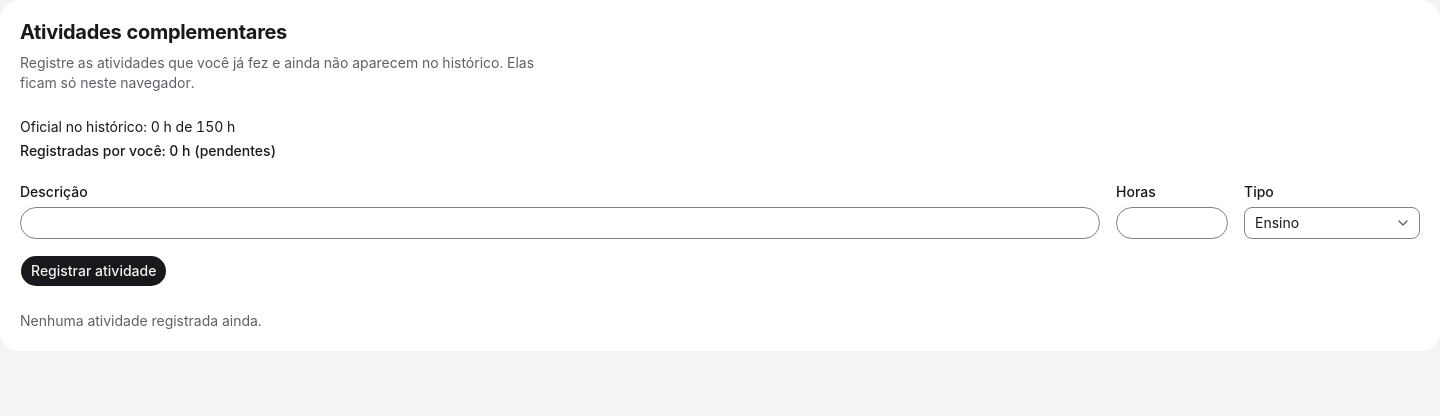
Test: AaccCard › removes an activity from the list and from the pending total
The width and height of the screenshot is (1440, 416).
Click the field labelled "Descrição" at (560, 223), box [20,207,1100,239]
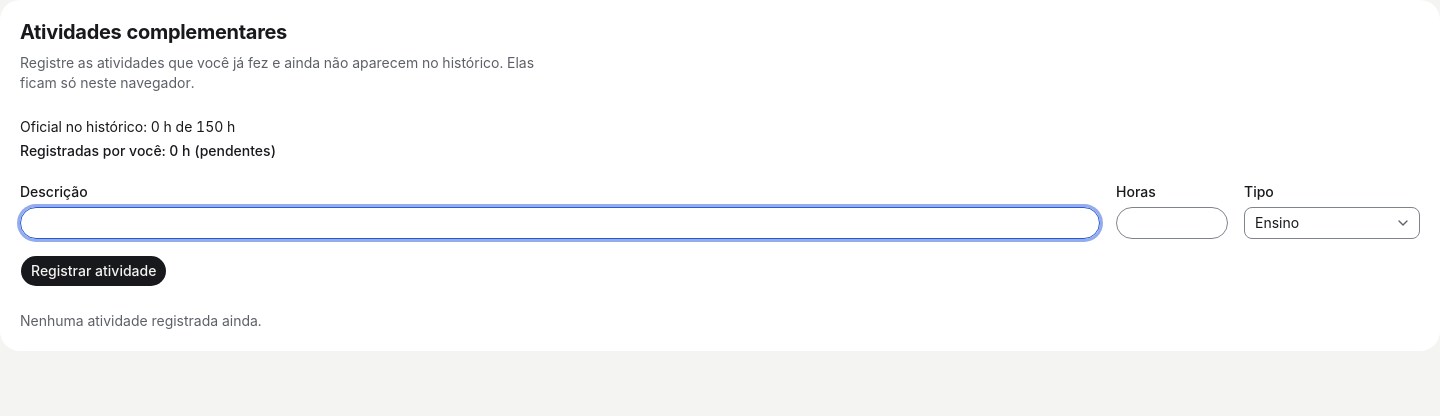
Type keys "Monitoria de cálculo"
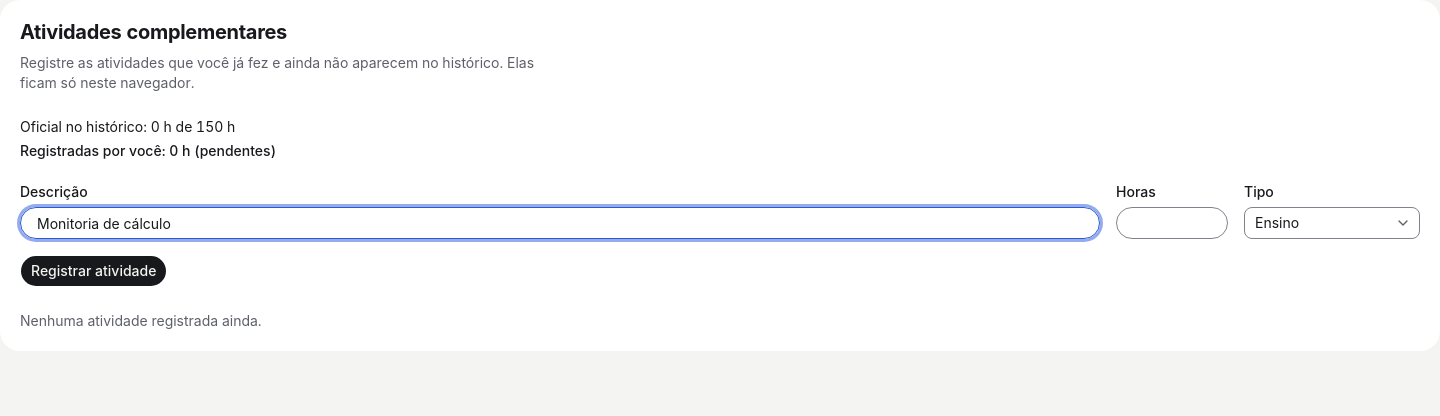
Type "30" into the number field labelled "Horas" at (1172, 223), box [1116,207,1228,239]
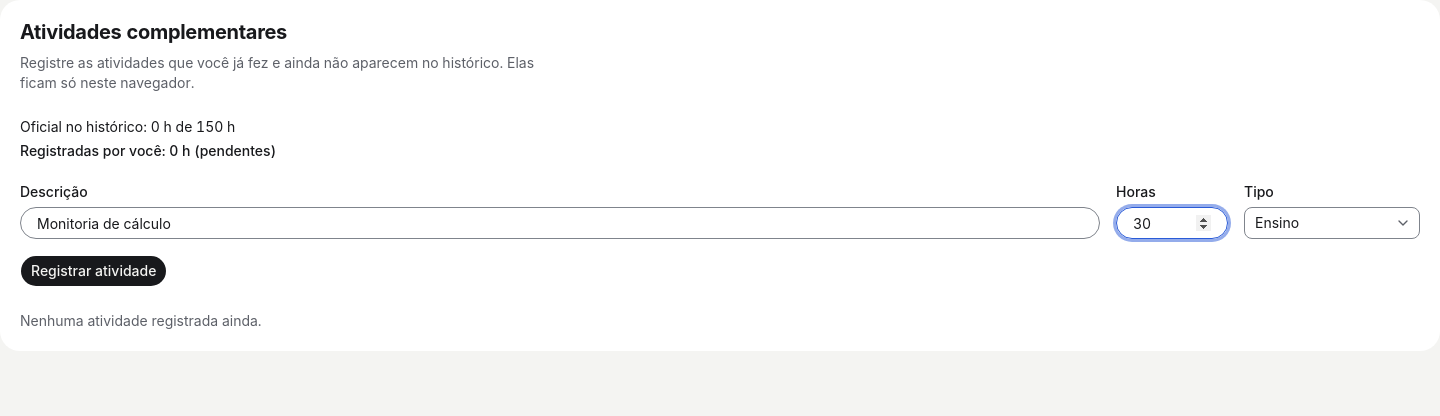
Click the button "Registrar atividade" at (94, 271), box [20,255,167,287]
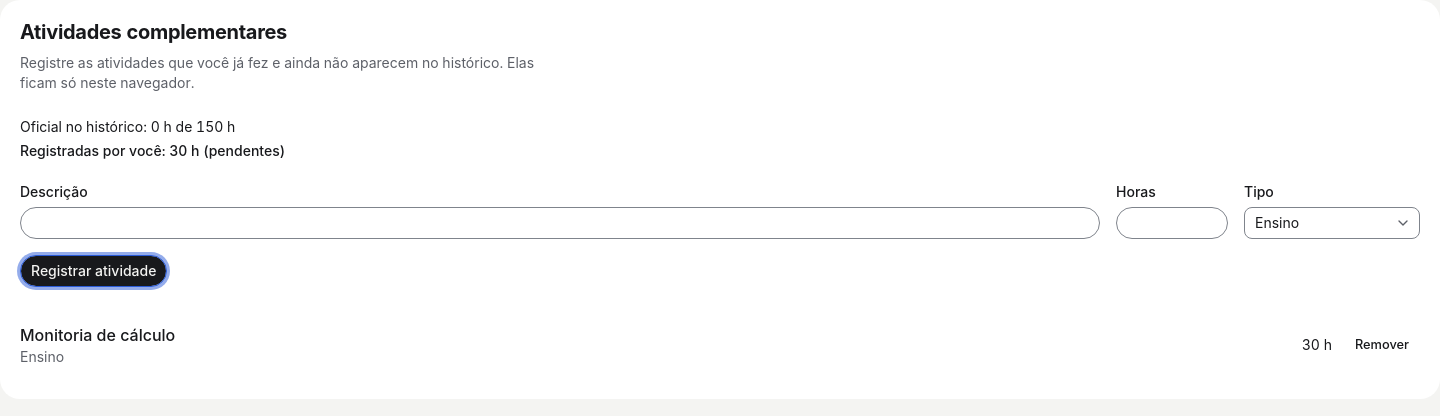
Click the button with aria-label "Remover Monitoria de cálculo" at (1382, 345), box [1344,331,1420,359]
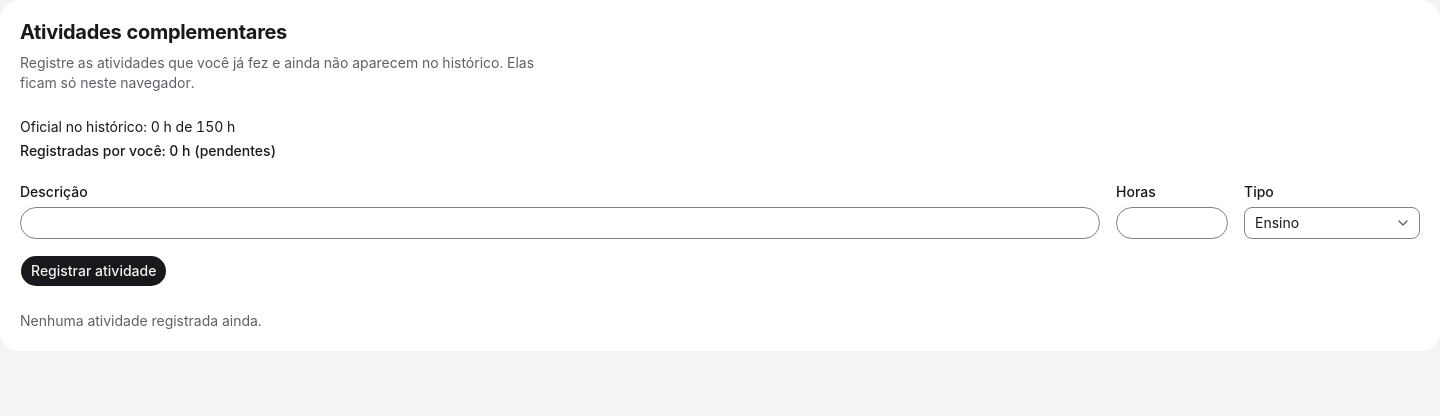
Now the text "Monitoria de cálculo" is gone
Now the text "Registradas por você: 0 h (pendentes)" is shown, box [20,142,276,159]
Now the text "Nenhuma atividade registrada ainda." is shown, box [20,312,262,329]
